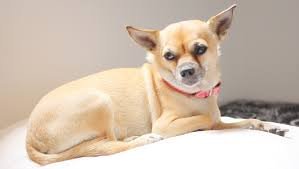chihuahua: (25, 3, 277, 166)
